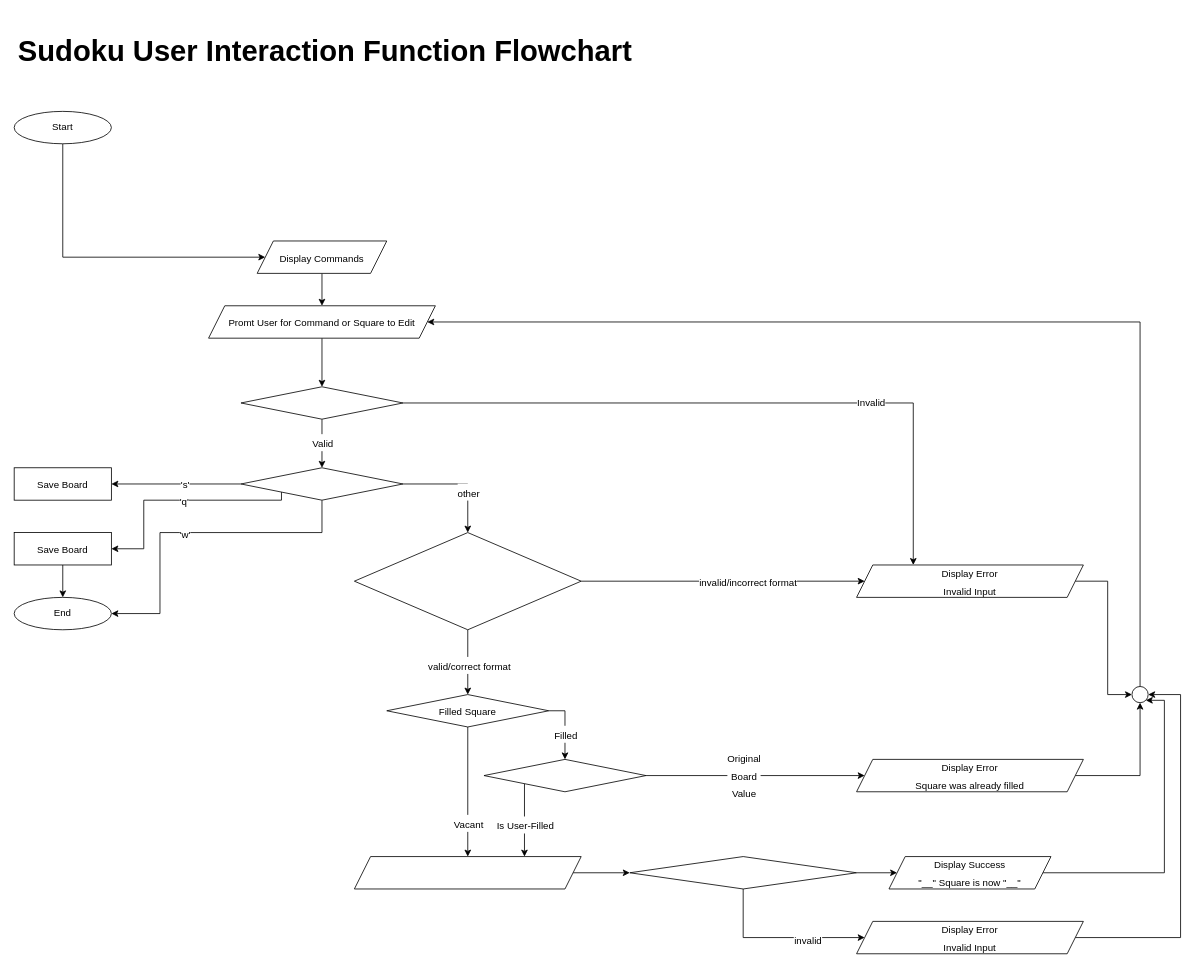
Image size: 1201x969. Some labels were removed from this diagram. The centre of each missing label's shape, as x and y in pixels:
Prompt User for Value: the point at 467,872
Use Rules to Validate: the point at 743,872
User-Filled: the point at 564,775
Valid Input: the point at 321,402
Verify that input is letter-number format ('A#') and is in valid range: the point at 467,581
What Input: the point at 321,483
